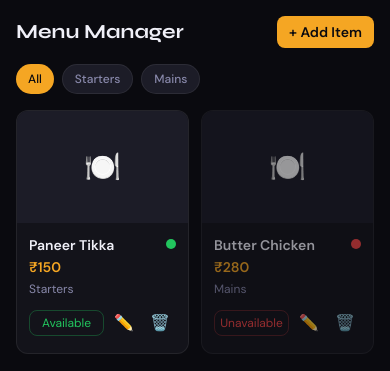
Scenario: PF11 - Menu Manager › Category filter shows correct items
expect the text "Paneer Tikka" is shown: met, box [29,235,114,255]
Filter to Mains — click the filter button (not the category label inside the card)
Step 1. Click the button "Mains" → point(171, 79), box [141,64,200,94]
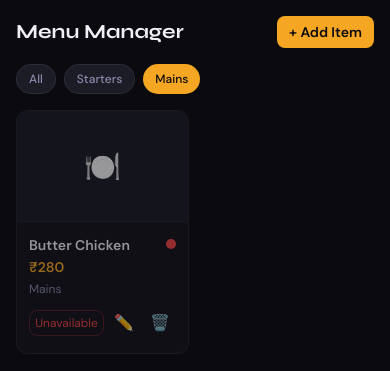
expect the text "Butter Chicken" is shown: met, box [29,235,130,255]
expect the text "Paneer Tikka" is gone: met
